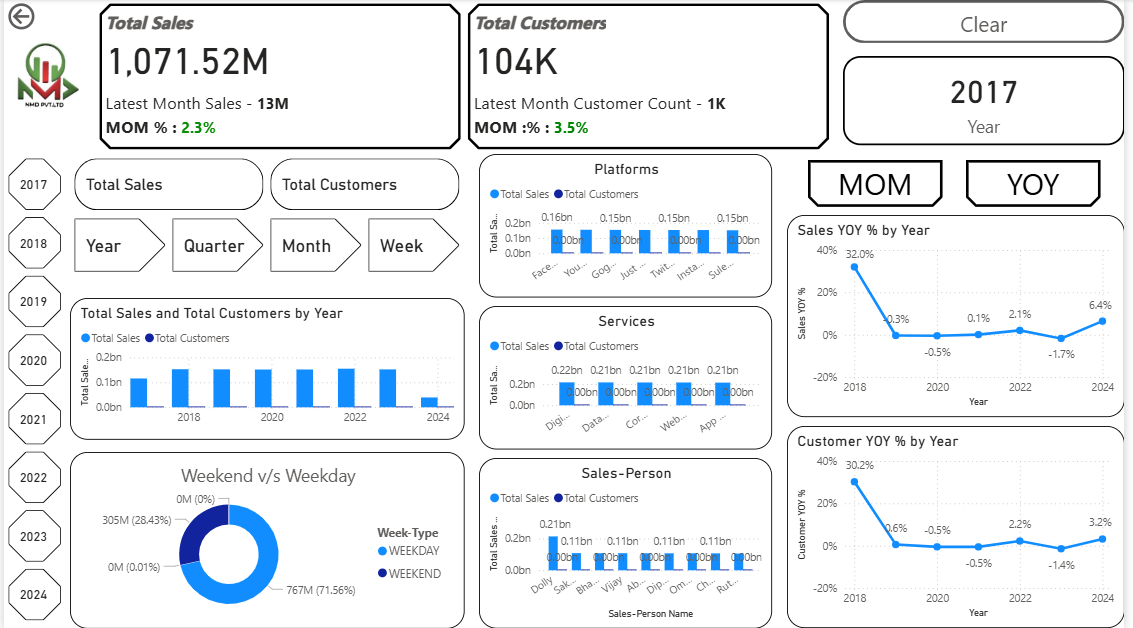

The page's visual inventory and layout, read from the dashboard file:
{"tool":"powerbi","page":{"name":"Overview","canvas":[1280,720],"ordinal":0},"visuals":[{"type":"cardVisual","fields":{"Data":["Measures (2).Total Sales","Measures (2).Total Customers"]},"box":[104.1,0,845.6,177.3],"z":0},{"type":"image","box":[0,25.7,92.5,125.9],"z":1000},{"type":"card","fields":{"Values":["Dim_Calender.Year"]},"box":[958.4,65.1,321.6,101.6],"z":2000},{"type":"advancedSlicerVisual","fields":{"Values":["Measure-Selector[sales,customer].Measure-Selector[sales,customer]"]},"box":[75.8,177.3,451.1,69.4],"z":3000},{"type":"advancedSlicerVisual","fields":{"Values":["Parameter.Parameter"]},"box":[75.8,245.5,451.1,72],"z":4000},{"type":"clusteredColumnChart","fields":{"Y":["Measures (2).Total Sales","Measures (2).Total Customers"],"Category":["Dim_Calender.Year","Dim_Calender.Quarter","Dim_Calender.Month Name","Dim_Calender.Week of Month"]},"box":[75.8,341.8,451.1,161.9],"z":5000},{"type":"clusteredColumnChart","title":" Platforms  ","fields":{"Y":["Measures (2).Total Sales","Measures (2).Total Customers"],"Category":["Dim_Platform.Platforms"]},"box":[542.3,177.3,335.4,164.5],"z":6000},{"type":"clusteredColumnChart","title":" Sales-Person","fields":{"Y":["Measures (2).Total Sales","Measures (2).Total Customers"],"Category":["Dim_Sales_Person.Sales-Person Name"]},"box":[542.3,524.3,335.4,195.3],"z":7000},{"type":"clusteredColumnChart","title":" Services","fields":{"Y":["Measures (2).Total Sales","Measures (2).Total Customers"],"Category":["Dim_Service_details.Service-List"]},"box":[542.3,350.8,335.4,164.5],"z":8000},{"type":"donutChart","fields":{"Y":["Measures (2).Total Sales","Measures (2).Total Customers"],"Category":["Dim_Calender.Week-Type"]},"box":[75.8,517.9,451.1,201.8],"z":9000},{"type":"advancedSlicerVisual","fields":{"Values":["Dim_Calender.Year"]},"box":[0,177.3,70.7,541],"z":10000},{"type":"lineChart","fields":{"Category":["Dim_Calender.Year"],"Y":["Measures (2).Sales YOY %"]},"box":[894.5,246.7,385.5,231.3],"z":11000},{"type":"lineChart","fields":{"Category":["Dim_Calender.Year"],"Y":["Measures (2).Customer YOY %"]},"box":[894.5,488.4,385.5,231.3],"z":12000},{"type":"actionButton","box":[919.4,184.6,153.8,53.5],"z":15000},{"type":"actionButton","box":[1099.4,184.6,153.8,53.5],"z":16000},{"type":"actionButton","box":[958.4,1.3,321.6,49.5],"z":17000},{"type":"actionButton","box":[0,0,46.8,39.8],"z":18000}]}

Visuals, with their boxes in screenshot pixels (x1, y1, x2, y2), scaled from the page's 1280x720 canvas onto the 1133x628 screenshot:
cardVisual - Measures (2).Total Sales x Measures (2).Total Customers: rect(92, 0, 841, 155)
image: rect(0, 22, 82, 132)
card - Dim_Calender.Year: rect(848, 57, 1132, 145)
advancedSlicerVisual - Measure-Selector[sales,customer].Measure-Selector[sales,customer]: rect(67, 155, 466, 215)
advancedSlicerVisual - Parameter.Parameter: rect(67, 214, 466, 277)
clusteredColumnChart - Measures (2).Total Sales x Measures (2).Total Customers: rect(67, 298, 466, 439)
" Platforms  " clusteredColumnChart: rect(480, 155, 777, 298)
" Sales-Person" clusteredColumnChart: rect(480, 457, 777, 627)
" Services" clusteredColumnChart: rect(480, 306, 777, 449)
donutChart - Measures (2).Total Sales x Measures (2).Total Customers: rect(67, 452, 466, 627)
advancedSlicerVisual - Dim_Calender.Year: rect(0, 155, 63, 627)
lineChart - Dim_Calender.Year x Measures (2).Sales YOY %: rect(792, 215, 1132, 417)
lineChart - Dim_Calender.Year x Measures (2).Customer YOY %: rect(792, 426, 1132, 627)
actionButton: rect(814, 161, 950, 208)
actionButton: rect(973, 161, 1109, 208)
actionButton: rect(848, 1, 1132, 44)
actionButton: rect(0, 0, 41, 35)
